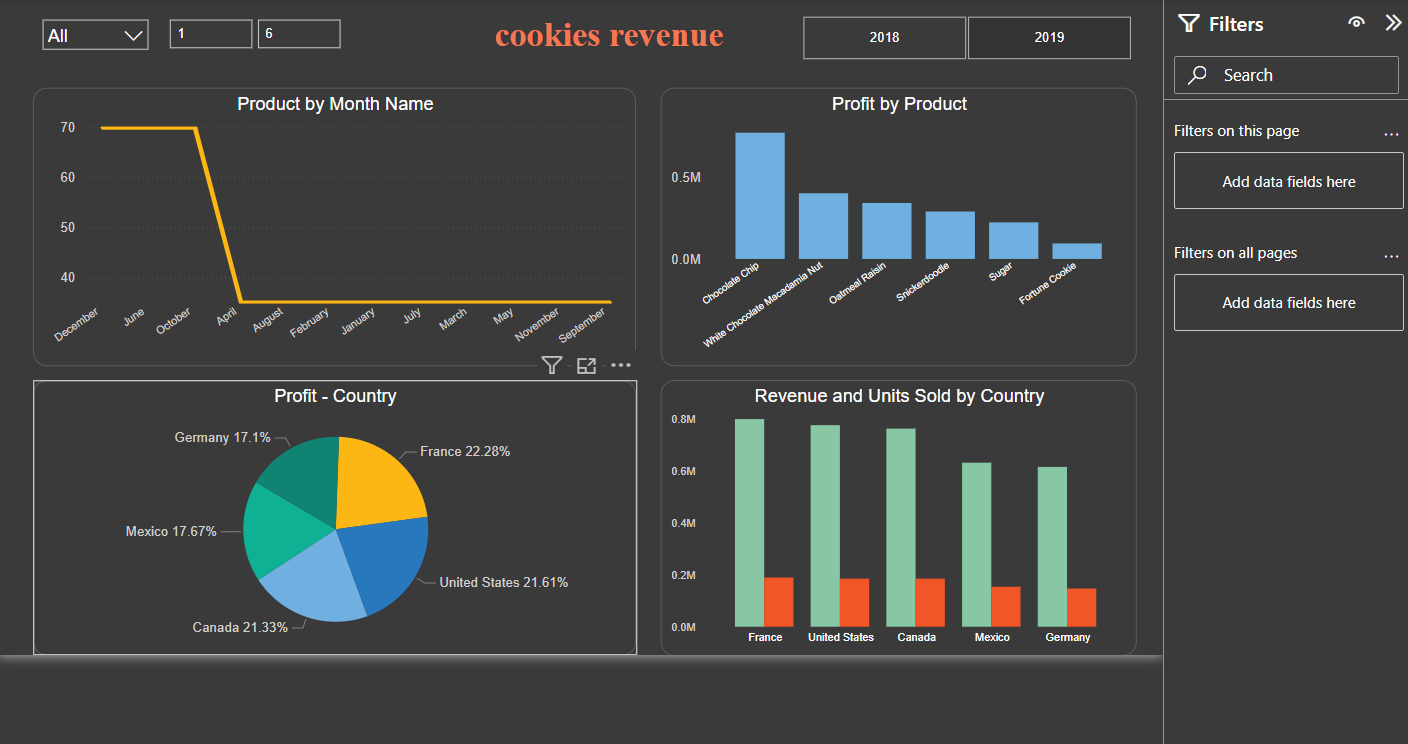

The page's visual inventory and layout, read from the dashboard file:
{"tool":"powerbi","page":{"name":"cookies sales","canvas":[1280,720],"ordinal":0},"visuals":[{"type":"lineChart","title":"Product by Month Name","fields":{"Y":["CountNonNull(Cookie Sales.Product)"],"Category":["Cookie Sales.Month Name"]},"box":[40.3,97.4,661.8,305.7],"z":0},{"type":"pieChart","title":" Profit - Country","fields":{"Y":["Sum(Cookie Sales.Profit)"],"Category":["Cookie Sales.Country"]},"box":[40.3,418.3,661.8,302.4],"z":1000},{"type":"columnChart","title":"Profit by Product","fields":{"Category":["Cookie Sales.Product"],"Y":["Sum(Cookie Sales.Profit)"]},"box":[729,97.4,522.4,305.7],"z":2000},{"type":"clusteredColumnChart","title":"Revenue and Units Sold by Country","fields":{"Category":["Cookie Sales.Country"],"Y":["Sum(Cookie Sales.Revenue)","Sum(Cookie Sales.Units Sold)"]},"box":[729,418.3,522.4,302.4],"z":3000},{"type":"textbox","box":[315.8,11.8,712.2,60.5],"z":4000},{"type":"slicer","fields":{"Values":["Cookie Sales.Country"]},"box":[40.3,11.8,136.1,60.5],"z":5000},{"type":"slicer","fields":{"Values":["Cookie Sales.Revenue per cookie"]},"box":[176.4,11.8,329.2,48.7],"z":6000},{"type":"slicer","fields":{"Values":["Cookie Sales.Year"]},"box":[858.4,11.8,409.9,60.5],"z":7000}]}

Visuals, with their boxes on the page's 1280x720 design canvas (x1, y1, x2, y2). These are canvas units, not pixel positions in the 1408x744 screenshot, which may show the page scaled, cropped or inside an application window:
"Product by Month Name" lineChart: BBox(40, 97, 702, 403)
" Profit - Country" pieChart: BBox(40, 418, 702, 721)
"Profit by Product" columnChart: BBox(729, 97, 1251, 403)
"Revenue and Units Sold by Country" clusteredColumnChart: BBox(729, 418, 1251, 721)
textbox: BBox(316, 12, 1028, 72)
slicer - Cookie Sales.Country: BBox(40, 12, 176, 72)
slicer - Cookie Sales.Revenue per cookie: BBox(176, 12, 506, 60)
slicer - Cookie Sales.Year: BBox(858, 12, 1268, 72)
